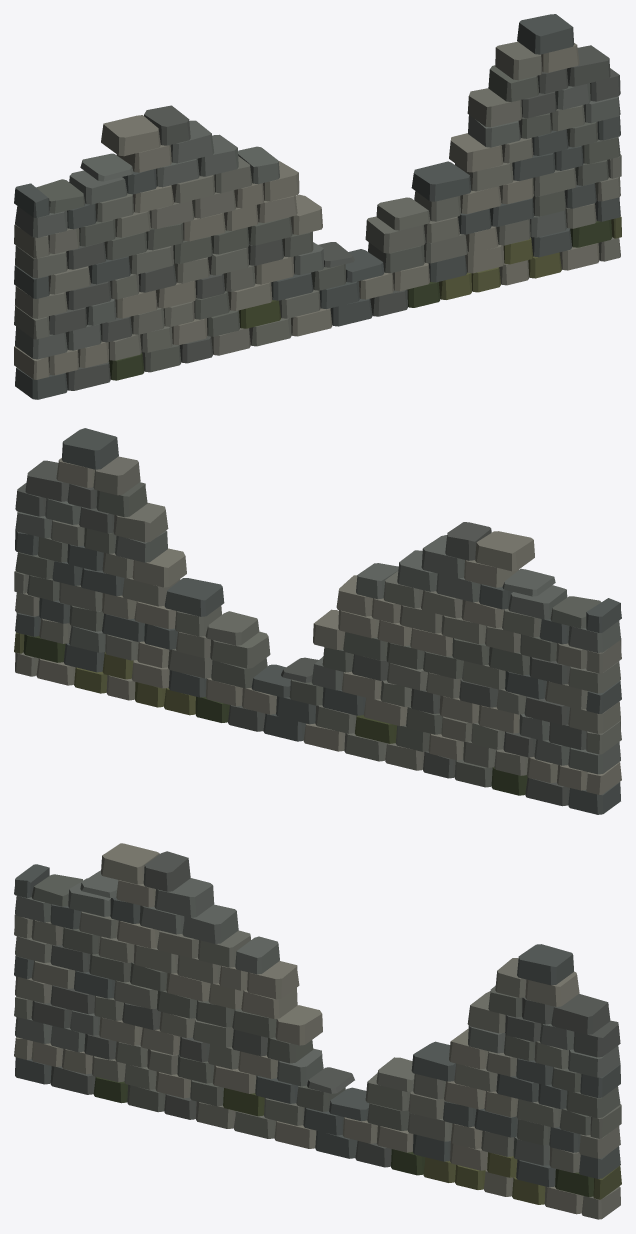
Rendered from fallen-keep-wall-a.glb.
3 renders of one model, top to bottom at view 1: azimuth 30°, elevation 25°; view 2: azimuth 150°, elevation 25°; view 3: azimuth 330°, elevation 25°, orthographic.
Visible parts, largest first — view 1: FallenKeep_CollapsedCurtain_a; view 2: FallenKeep_CollapsedCurtain_a; view 3: FallenKeep_CollapsedCurtain_a.
Boxes of the visible parts, <box> form: FallenKeep_CollapsedCurtain_a: <box>14,14,621,399</box>; FallenKeep_CollapsedCurtain_a: <box>14,428,621,814</box>; FallenKeep_CollapsedCurtain_a: <box>14,843,621,1219</box>.
Size of the model in its own units: 14.01 by 5.52 by 0.9.
